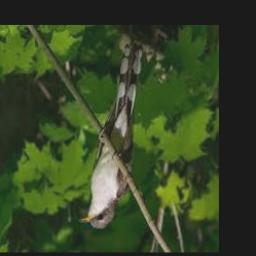Cuckoo: (80, 44, 144, 229)
